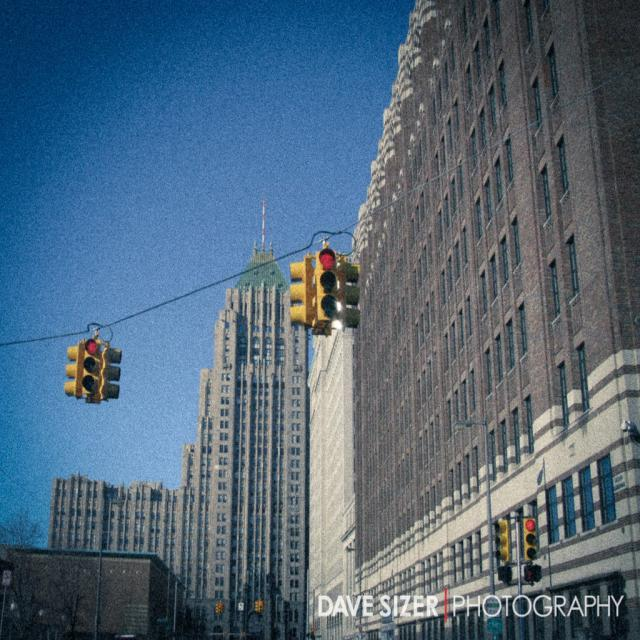traffic light: (316, 246, 340, 322), (80, 338, 103, 397)
